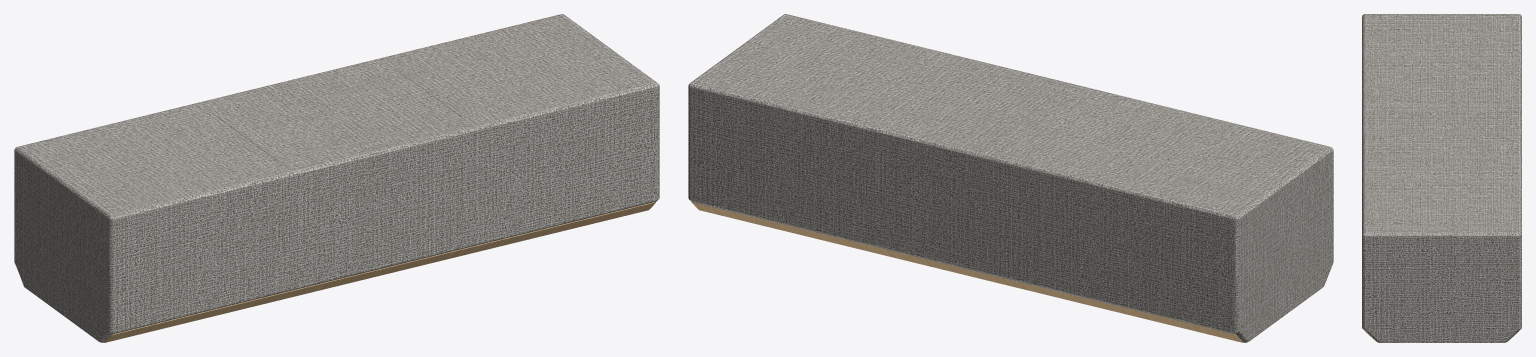
3 views of the same model, side by side, from view 1: azimuth 30°, elevation 25°; view 2: azimuth 150°, elevation 25°; view 3: azimuth 270°, elevation 25° (orthographic). The views are drawn at different scales.
Visible parts, largest first — view 1: 2, 4; view 2: 2, 6; view 3: 2.
Boxes of the visible parts, <box> form: 2: <box>14,14,659,342</box>; 4: <box>104,202,655,342</box>; 2: <box>688,14,1333,342</box>; 6: <box>692,203,1242,342</box>; 2: <box>1362,14,1521,342</box>.
Size of the model in its own units: 1.8 by 0.4231 by 0.55.
Materials: 3 (2 with a texture image).
